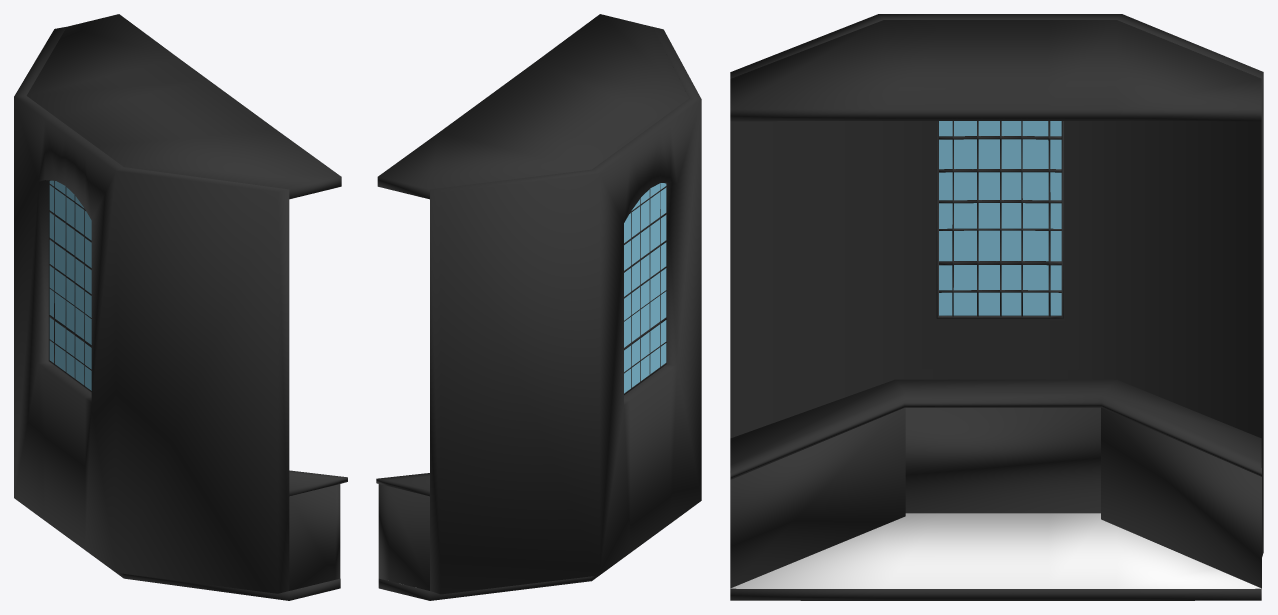
Rendered from Alcove_new.fbx.
3 views of the same model, side by side, from view 1: azimuth 30°, elevation 25°; view 2: azimuth 150°, elevation 25°; view 3: azimuth 270°, elevation 25° (orthographic). The views are drawn at different scales.
Parts seen in each view (by area): view 1: AlcoveWalls, Ceiling, Glass, SurroundWalls, Window, Floor, SurroundWallsSeat; view 2: AlcoveWalls, Ceiling, Glass, SurroundWalls, Window, Floor, SurroundWallsSeat; view 3: AlcoveWalls, SurroundWalls, Ceiling, Floor, Glass, SurroundWallsSeat, Window.
Boxes of the visible parts, bbox=[...] form: AlcoveWalls: bbox=[14, 26, 289, 593]; Ceiling: bbox=[26, 14, 341, 199]; Glass: bbox=[49, 180, 91, 390]; SurroundWalls: bbox=[289, 484, 340, 590]; Window: bbox=[48, 180, 91, 392]; Floor: bbox=[116, 573, 340, 600]; SurroundWallsSeat: bbox=[289, 470, 347, 496]; AlcoveWalls: bbox=[430, 26, 701, 594]; Ceiling: bbox=[377, 14, 688, 199]; Glass: bbox=[624, 183, 666, 393]; SurroundWalls: bbox=[378, 484, 429, 590]; Window: bbox=[624, 182, 666, 394]; Floor: bbox=[378, 575, 599, 600]; SurroundWallsSeat: bbox=[376, 473, 429, 496]; AlcoveWalls: bbox=[730, 14, 1263, 556]; SurroundWalls: bbox=[730, 407, 1261, 588]; Ceiling: bbox=[730, 20, 1261, 121]; Floor: bbox=[730, 513, 1261, 600]; Glass: bbox=[939, 121, 1061, 315]; SurroundWallsSeat: bbox=[730, 379, 1261, 479]; Window: bbox=[936, 121, 1063, 318].
Bounding box in the file's own units: 115 × 266 × 261.
